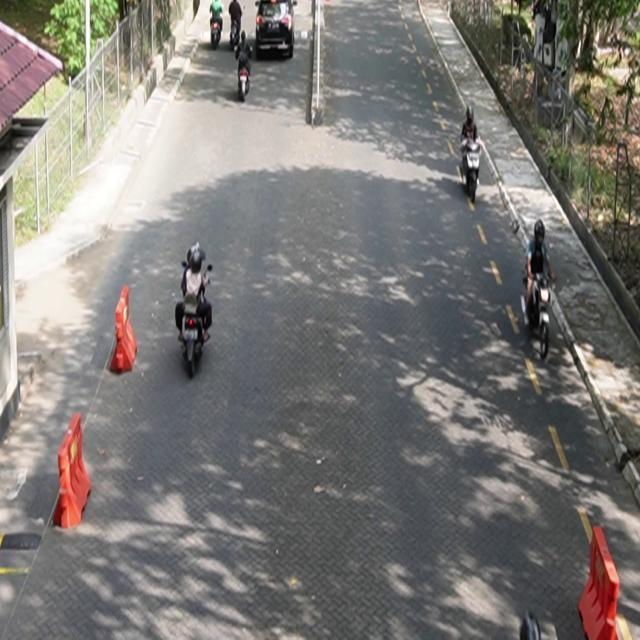car: (256, 1, 298, 60)
